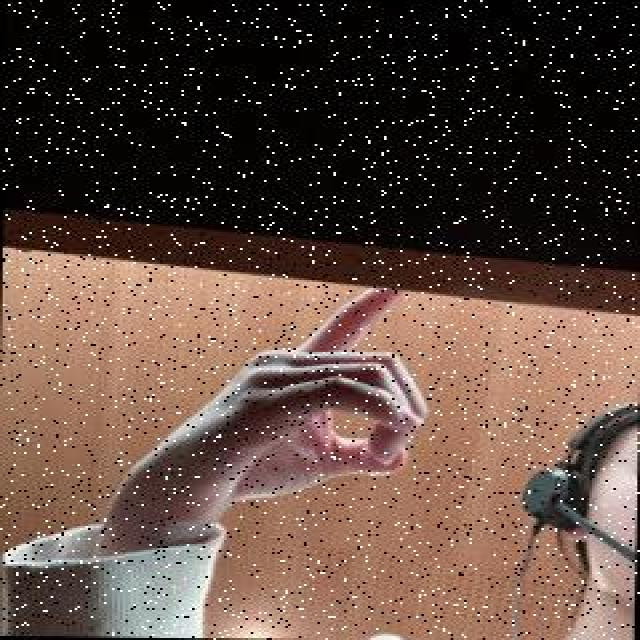D: (96, 281, 440, 543)
